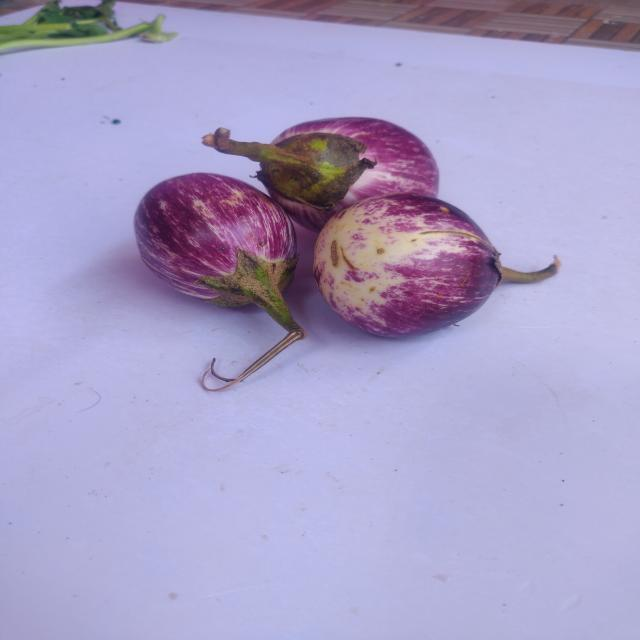Eggplant: (133, 172, 306, 392), (313, 193, 561, 337), (206, 116, 439, 232)
